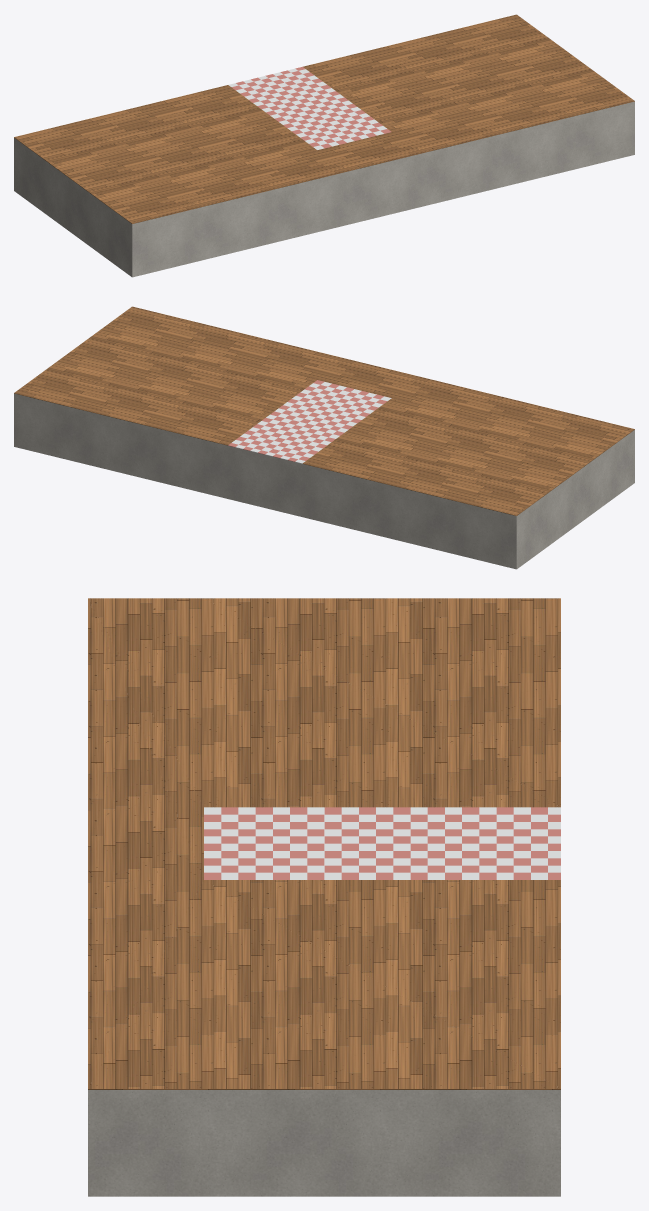
The model's file is bs_floor.glb.
The picture shows the model from 3 angles, top to bottom: view 1: azimuth 30°, elevation 25°; view 2: azimuth 150°, elevation 25°; view 3: azimuth 270°, elevation 25°; orthographic projection. The views are drawn at different scales.
Visible parts, largest first — view 1: bs_floor_wood, bs_floor_concrete, bs_floor_tile, bs_floor_tile_b; view 2: bs_floor_wood, bs_floor_concrete, bs_floor_tile, bs_floor_tile_b; view 3: bs_floor_wood, bs_floor_concrete, bs_floor_tile, bs_floor_tile_b.
Boxes of the visible parts, left/top/right/bottom form: bs_floor_wood: left=14, top=14, right=634, bottom=223; bs_floor_concrete: left=14, top=101, right=634, bottom=277; bs_floor_tile: left=228, top=68, right=386, bottom=149; bs_floor_tile_b: left=231, top=67, right=391, bottom=148; bs_floor_wood: left=14, top=306, right=634, bottom=515; bs_floor_concrete: left=14, top=393, right=634, bottom=569; bs_floor_tile: left=232, top=382, right=391, bottom=463; bs_floor_tile_b: left=228, top=380, right=386, bottom=461; bs_floor_wood: left=88, top=598, right=560, bottom=1089; bs_floor_concrete: left=88, top=1090, right=560, bottom=1196; bs_floor_tile: left=204, top=807, right=560, bottom=879; bs_floor_tile_b: left=204, top=807, right=560, bottom=879.
Bounding box in the file's own units: 13.5 × 1.38 × 5.5.
4 materials, 2 textured.
